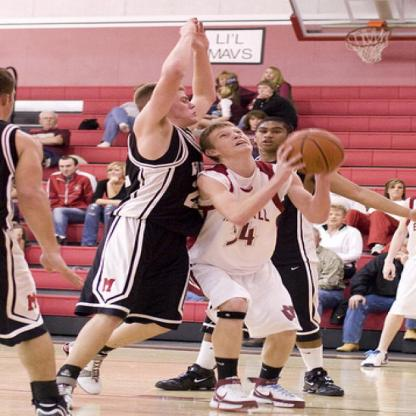basketball: (280, 127, 346, 179)
